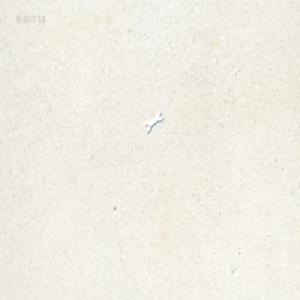Wrench: (144, 110, 163, 132)
